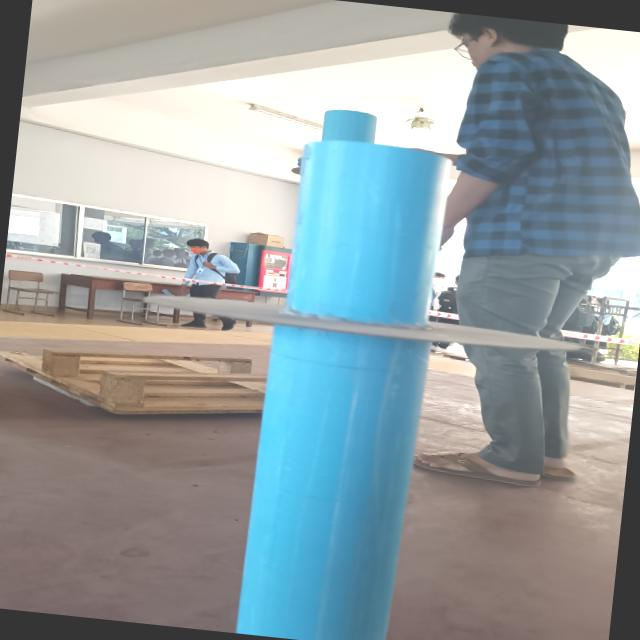pole: (107, 91, 640, 562)
